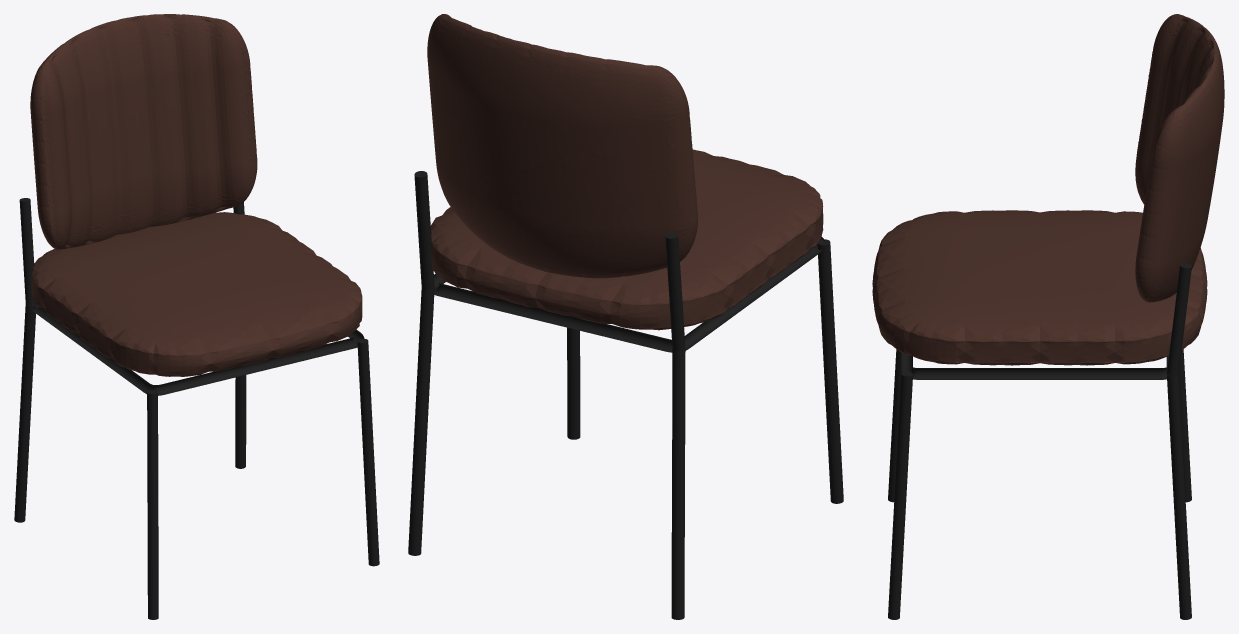
File: ripple.glb
3 renders of one model, left to right at view 1: azimuth 30°, elevation 25°; view 2: azimuth 150°, elevation 25°; view 3: azimuth 270°, elevation 25°, orthographic. The views are drawn at different scales.
Visible parts, largest first — view 1: back, seat, frame, leg0, leg1, leg2, post-1, leg3; view 2: back, seat, frame, leg2, leg3, leg0, post-1, post1, leg1; view 3: seat, back, frame, leg1, leg3, post1, leg0, leg2.
Boxes of the visible parts, x1,y1,x2,y2 form: back: (30,14,257,249); seat: (31,212,362,376); frame: (30,305,364,395); leg0: (147,390,158,619); leg1: (357,338,379,566); leg2: (14,304,36,522); post-1: (19,198,35,304); leg3: (235,375,246,468); back: (427,14,697,278); seat: (430,149,823,330); frame: (433,237,825,352); leg2: (671,348,685,619); leg3: (408,288,434,555); leg0: (817,239,843,503); post-1: (665,232,685,351); post1: (414,171,434,290); leg1: (567,327,580,439); seat: (872,210,1207,365); back: (1135,14,1224,302); frame: (901,352,1168,379); leg1: (888,371,912,619); leg3: (1166,374,1191,619); post1: (1167,263,1191,376); leg0: (888,349,901,502); leg2: (1178,349,1191,502).
Bounding box in the file's own units: 0.4619 × 0.8429 × 0.5303.
